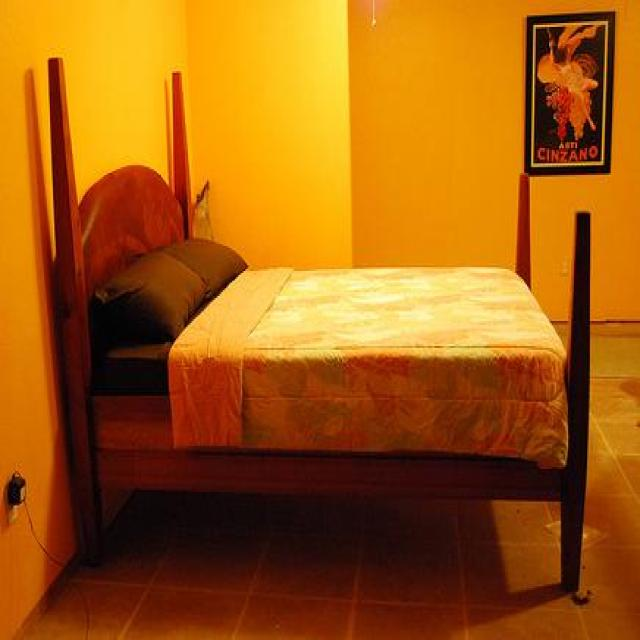bed: (38, 167, 594, 592)
